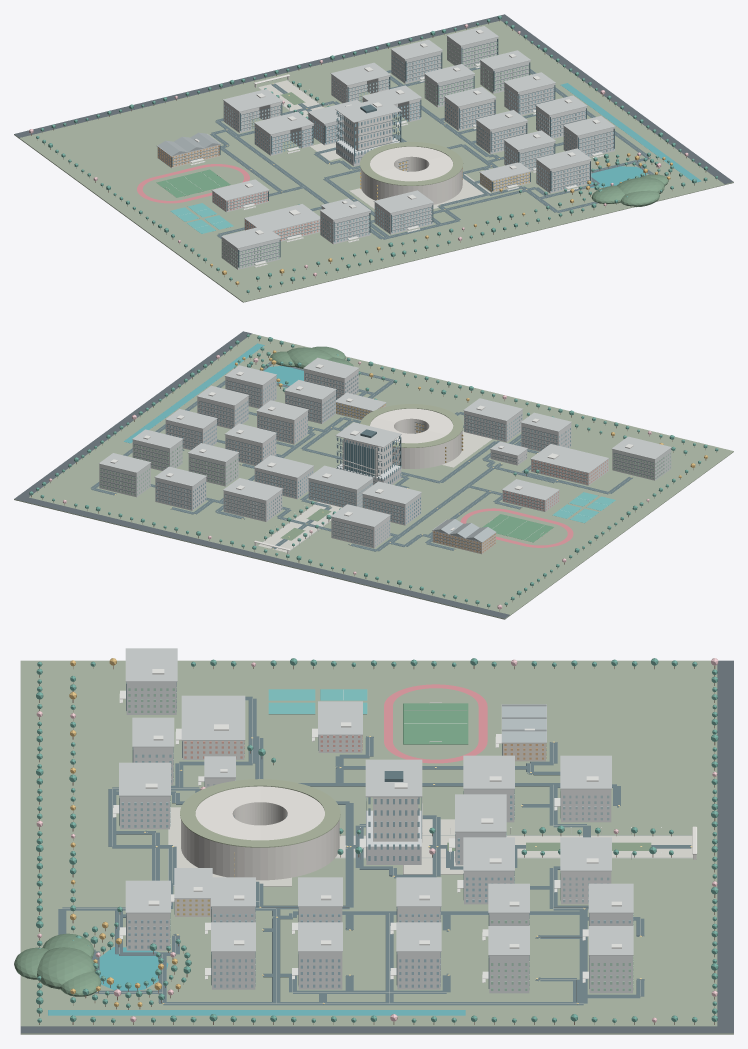
File: yueyang_campus.glb
3 renders of one model, top to bottom at view 1: azimuth 30°, elevation 25°; view 2: azimuth 150°, elevation 25°; view 3: azimuth 270°, elevation 25°, orthographic. The views are drawn at different scales.
Visible parts, largest first — view 1: CAMPUS_GROUND, B05_LOD1_shell.001, B06_LOD1_shell.001, BOUNDARY_ROAD_SOUTH, B22_LOD1_shell.001, B18_LOD1_shell.001, B17_LOD1_shell.001, B03_LOD1_shell.001, B15_LOD1_shell.001, BOUNDARY_ROAD_EAST, B08_LOD1_shell.001, B01_LOD1_shell.001 (+25 smaller); view 2: CAMPUS_GROUND, B05_LOD1_shell.001, BOUNDARY_ROAD_SOUTH, B22_LOD1_shell.001, B06_LOD1_shell.001, B08_LOD1_shell.001, B01_LOD1_shell.001, B02_LOD1_shell.001, B18_LOD1_shell.001, B23_LOD1_shell.001, B17_LOD1_shell.001, BOUNDARY_ROAD_EAST (+25 smaller); view 3: CAMPUS_GROUND, B22_LOD1_shell.001, B06_LOD1_shell.001, BOUNDARY_ROAD_SOUTH, B05_LOD1_shell.001, BOUNDARY_ROAD_EAST, B08_LOD1_shell.001, B01_LOD1_shell.001, B17_LOD1_shell.001, B18_LOD1_shell.001, B15_LOD1_shell.001, B27_LOD1_shell.001 (+33 smaller).
Part boxes in pixels (left/top/right/bottom): CAMPUS_GROUND: left=14, top=20, right=733, bottom=302; B05_LOD1_shell.001: left=335, top=97, right=401, bottom=166; B06_LOD1_shell.001: left=360, top=153, right=463, bottom=204; BOUNDARY_ROAD_SOUTH: left=14, top=14, right=509, bottom=137; B22_LOD1_shell.001: left=360, top=142, right=455, bottom=195; B18_LOD1_shell.001: left=221, top=225, right=280, bottom=269; B17_LOD1_shell.001: left=373, top=190, right=433, bottom=234; B03_LOD1_shell.001: left=254, top=111, right=313, bottom=155; B15_LOD1_shell.001: left=535, top=148, right=591, bottom=193; BOUNDARY_ROAD_EAST: left=496, top=14, right=733, bottom=184; B08_LOD1_shell.001: left=244, top=204, right=320, bottom=242; B01_LOD1_shell.001: left=223, top=89, right=282, bottom=132; CAMPUS_GROUND: left=14, top=333, right=733, bottom=619; B05_LOD1_shell.001: left=335, top=422, right=401, bottom=484; BOUNDARY_ROAD_SOUTH: left=16, top=495, right=509, bottom=618; B22_LOD1_shell.001: left=360, top=415, right=455, bottom=468; B06_LOD1_shell.001: left=367, top=404, right=463, bottom=462; B08_LOD1_shell.001: left=530, top=444, right=609, bottom=485; B01_LOD1_shell.001: left=330, top=504, right=390, bottom=548; B02_LOD1_shell.001: left=223, top=478, right=283, bottom=521; B18_LOD1_shell.001: left=611, top=436, right=671, bottom=480; B23_LOD1_shell.001: left=308, top=465, right=373, bottom=507; B17_LOD1_shell.001: left=463, top=398, right=522, bottom=442; BOUNDARY_ROAD_EAST: left=14, top=331, right=251, bottom=500; CAMPUS_GROUND: left=20, top=660, right=733, bottom=1034; B22_LOD1_shell.001: left=260, top=779, right=340, bottom=880; B06_LOD1_shell.001: left=180, top=779, right=286, bottom=880; BOUNDARY_ROAD_SOUTH: left=717, top=660, right=733, bottom=1033; B05_LOD1_shell.001: left=359, top=759, right=422, bottom=864; BOUNDARY_ROAD_EAST: left=20, top=1026, right=733, bottom=1033; B08_LOD1_shell.001: left=175, top=695, right=245, bottom=759; B01_LOD1_shell.001: left=554, top=755, right=611, bottom=822; B17_LOD1_shell.001: left=113, top=762, right=170, bottom=829; B18_LOD1_shell.001: left=119, top=648, right=177, bottom=714; B15_LOD1_shell.001: left=119, top=880, right=170, bottom=950; B27_LOD1_shell.001: left=582, top=926, right=633, bottom=993.
Size of the model in its own units: 528 by 53.44 by 431.
